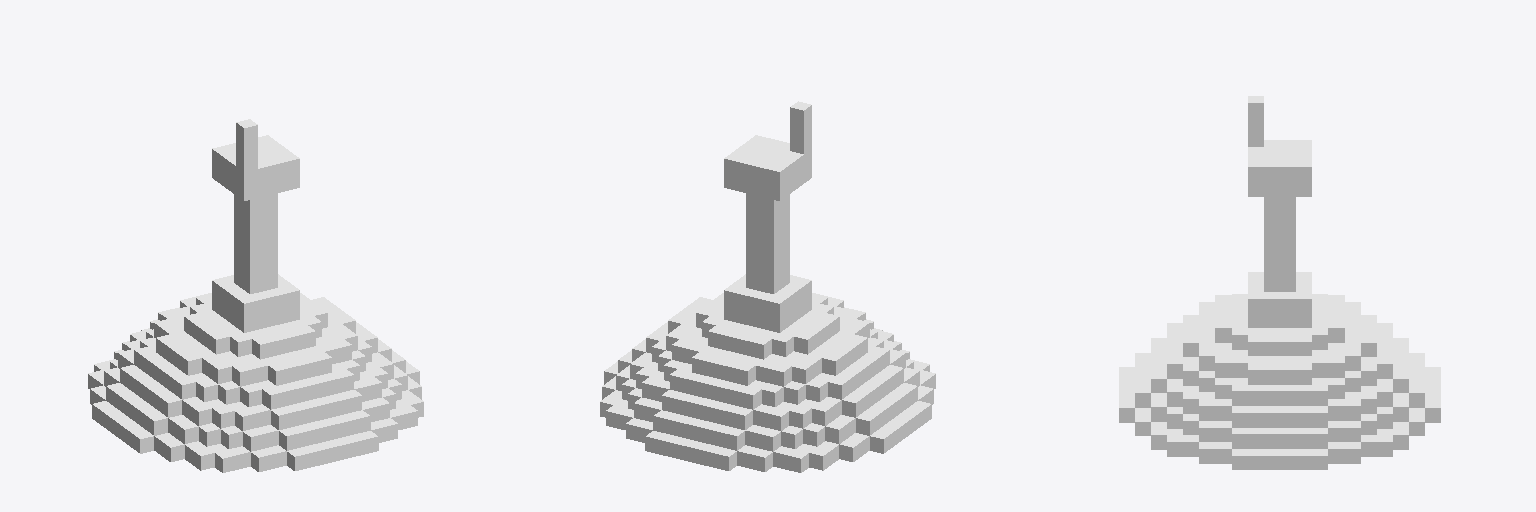
Rendered from landmine.obj.
The picture shows the model from 3 angles: view 1: azimuth 30°, elevation 25°; view 2: azimuth 150°, elevation 25°; view 3: azimuth 270°, elevation 25°; orthographic projection.
Size of the model in its own units: 20 by 20 by 20.